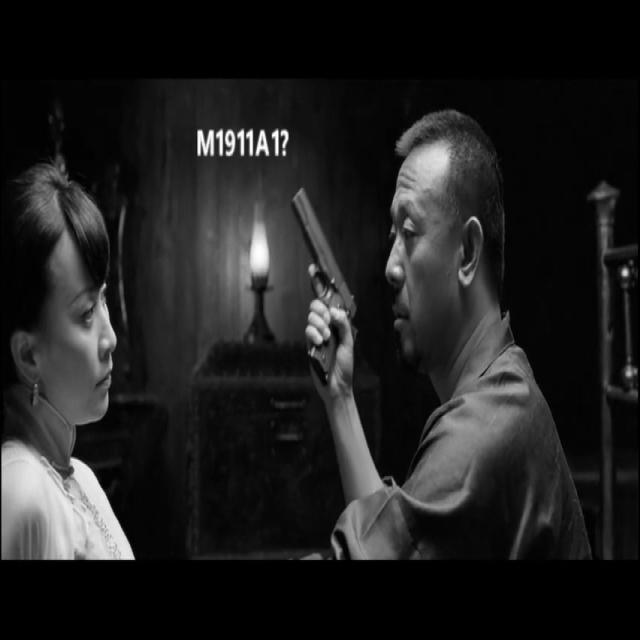Hand-Gun: (280, 168, 358, 391)
